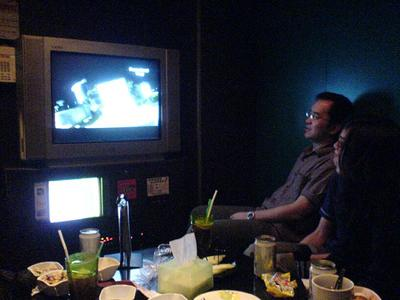person: (229, 90, 353, 222)
